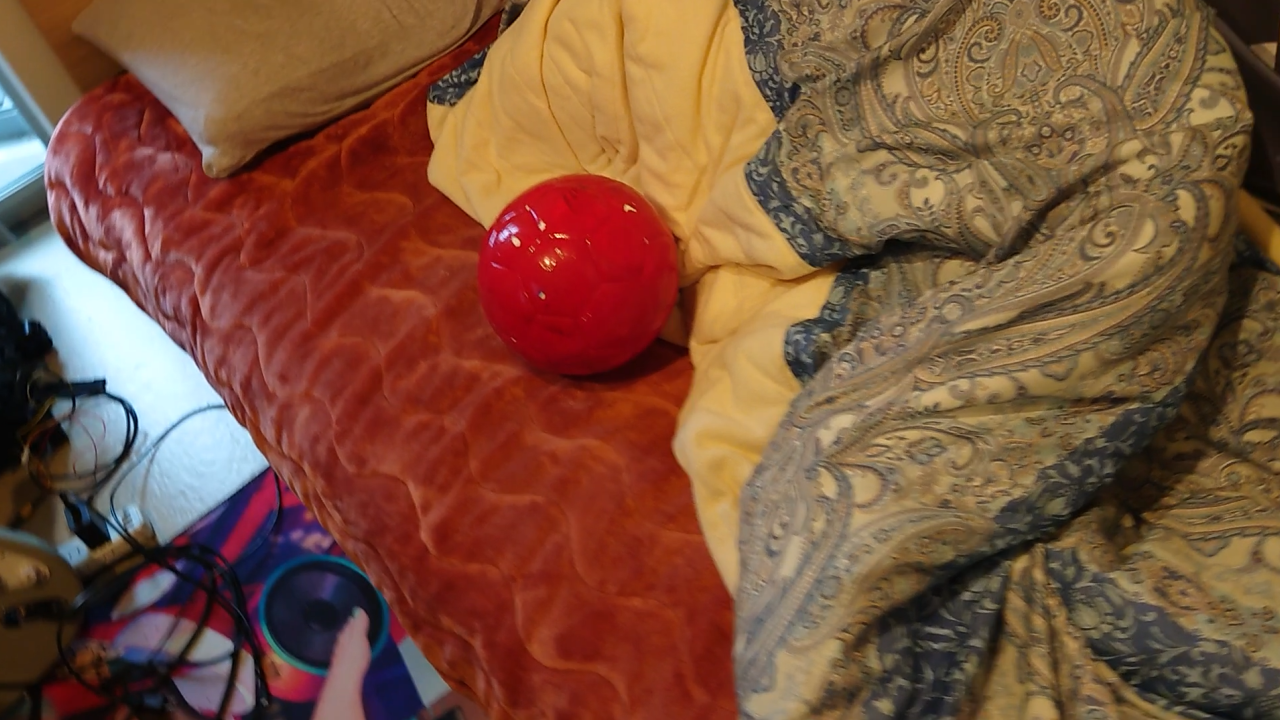red: (476, 175, 678, 376)
